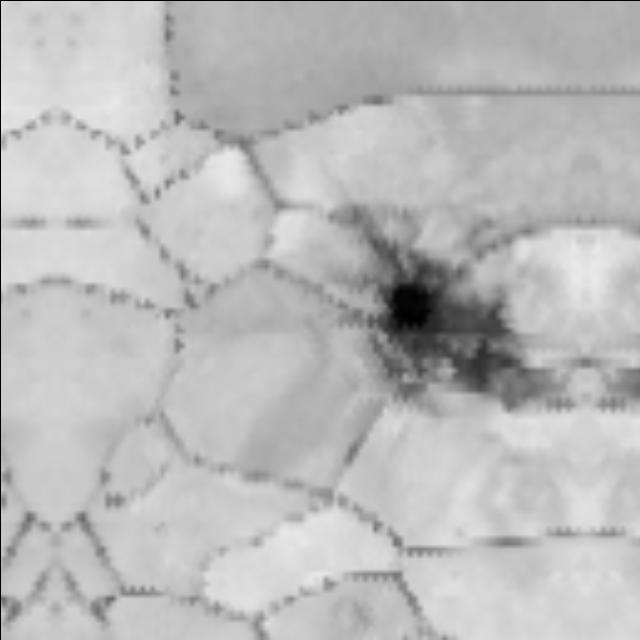good_void: (318, 196, 596, 450), (78, 457, 141, 531), (330, 433, 368, 474), (0, 465, 23, 513)
